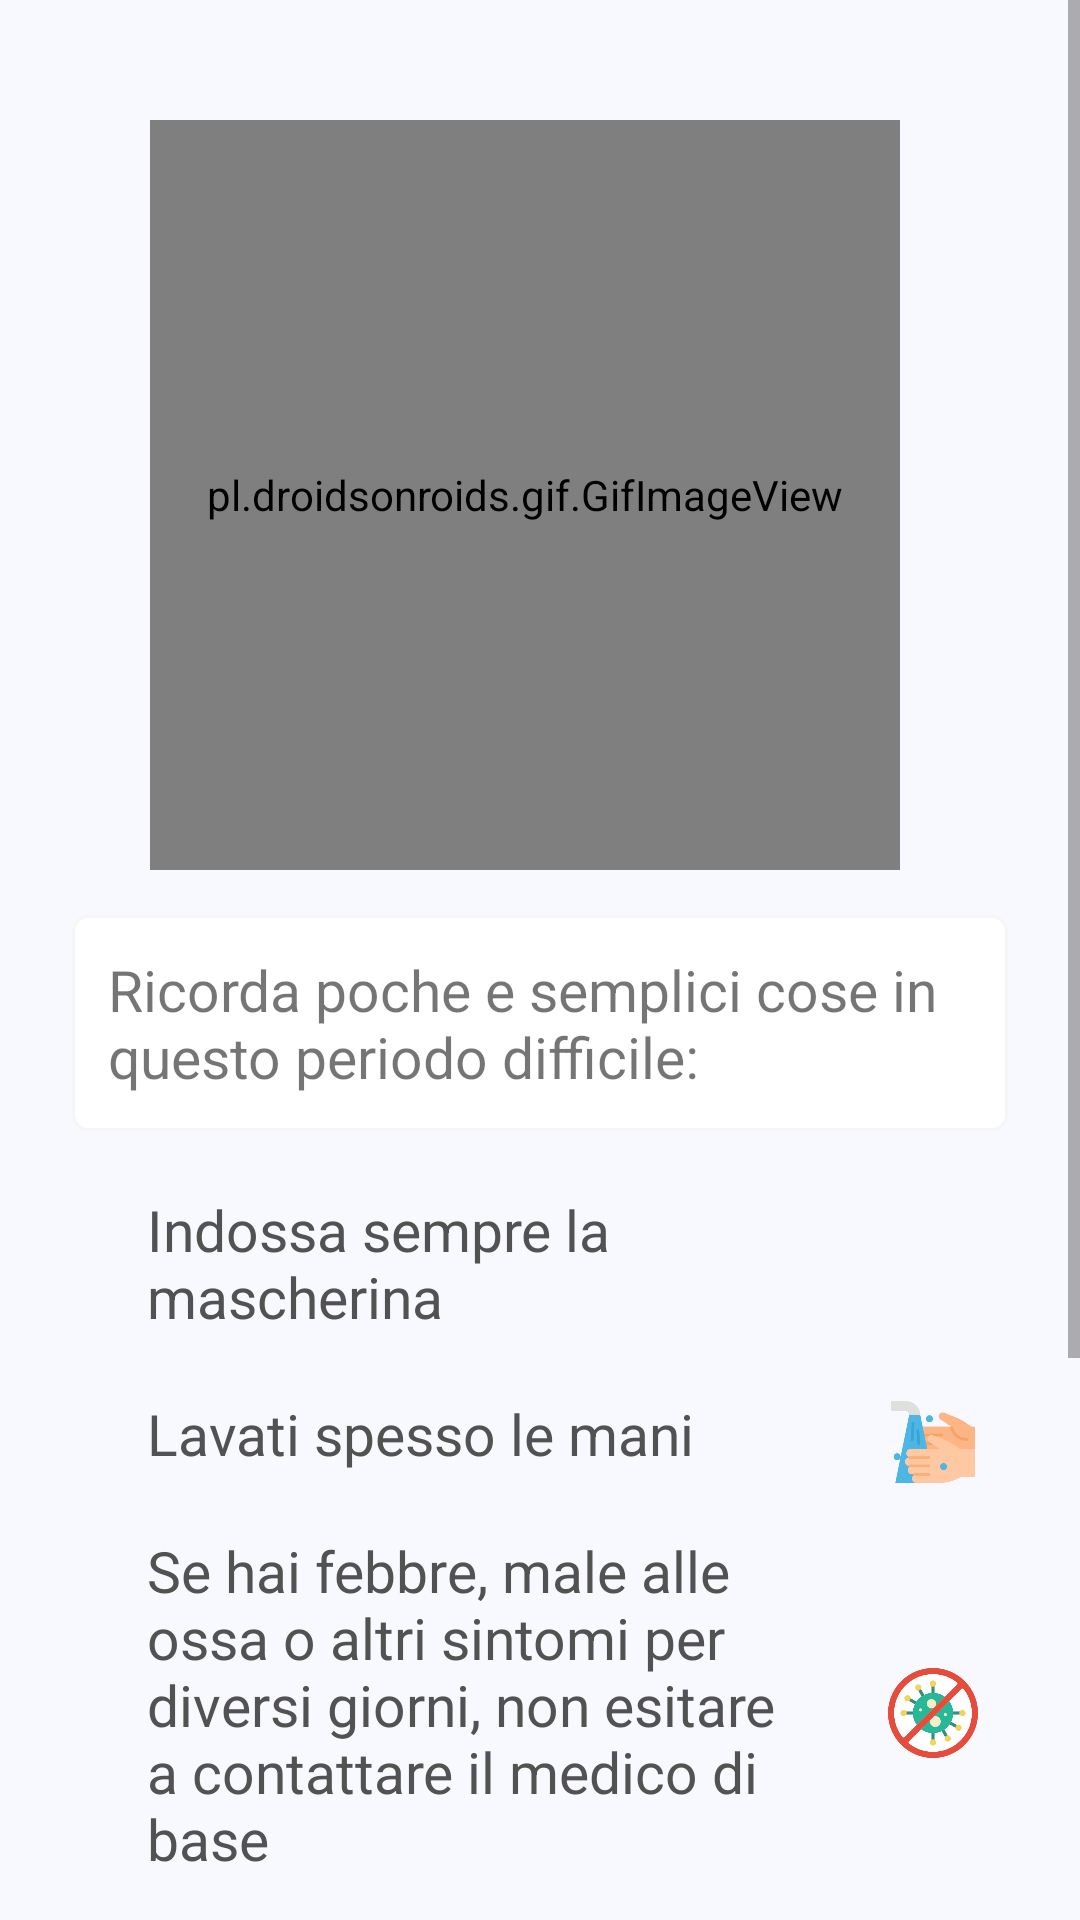

Screen size 1080x1920. Icon name, then its center in pixels as (x=x, y=y):
hands: (x=933, y=1442)
virus: (x=933, y=1713)
